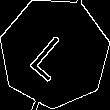L_NE: (27, 23, 82, 82)
